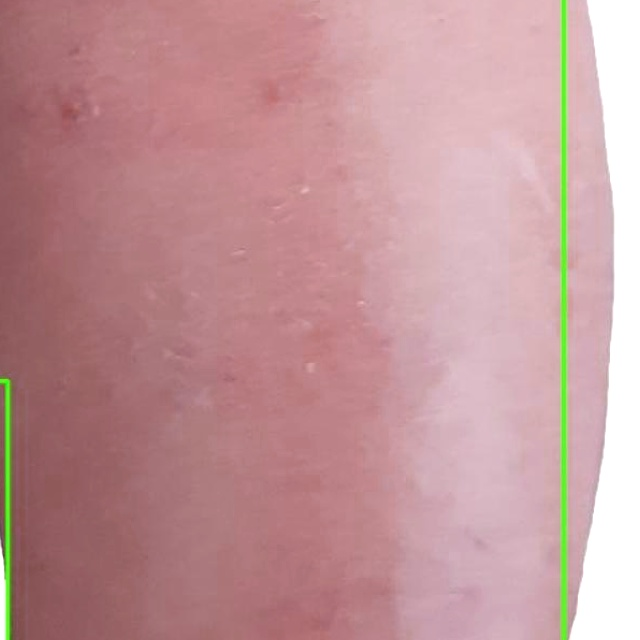Contact Dermatitis: (563, 0, 639, 639)
